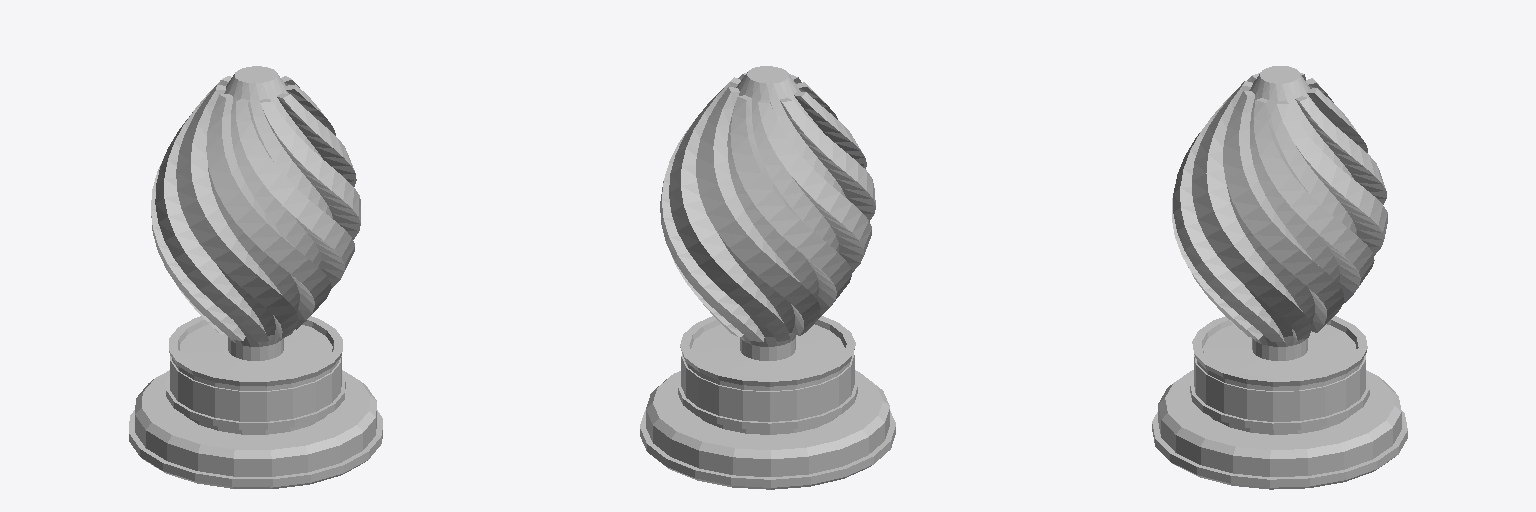
Rendered from Spiral_Top.obj.
3 views of the same model, side by side, from view 1: azimuth 30°, elevation 25°; view 2: azimuth 150°, elevation 25°; view 3: azimuth 270°, elevation 25° (orthographic).
Parts seen in each view (by area): view 1: default; view 2: default; view 3: default.
Part boxes in pixels (x1,y1,x2,y2): default: (129, 66, 382, 488); default: (640, 66, 895, 489); default: (1152, 66, 1407, 489).
Bounding box in the file's own units: 1.63 × 2.54 × 1.63.